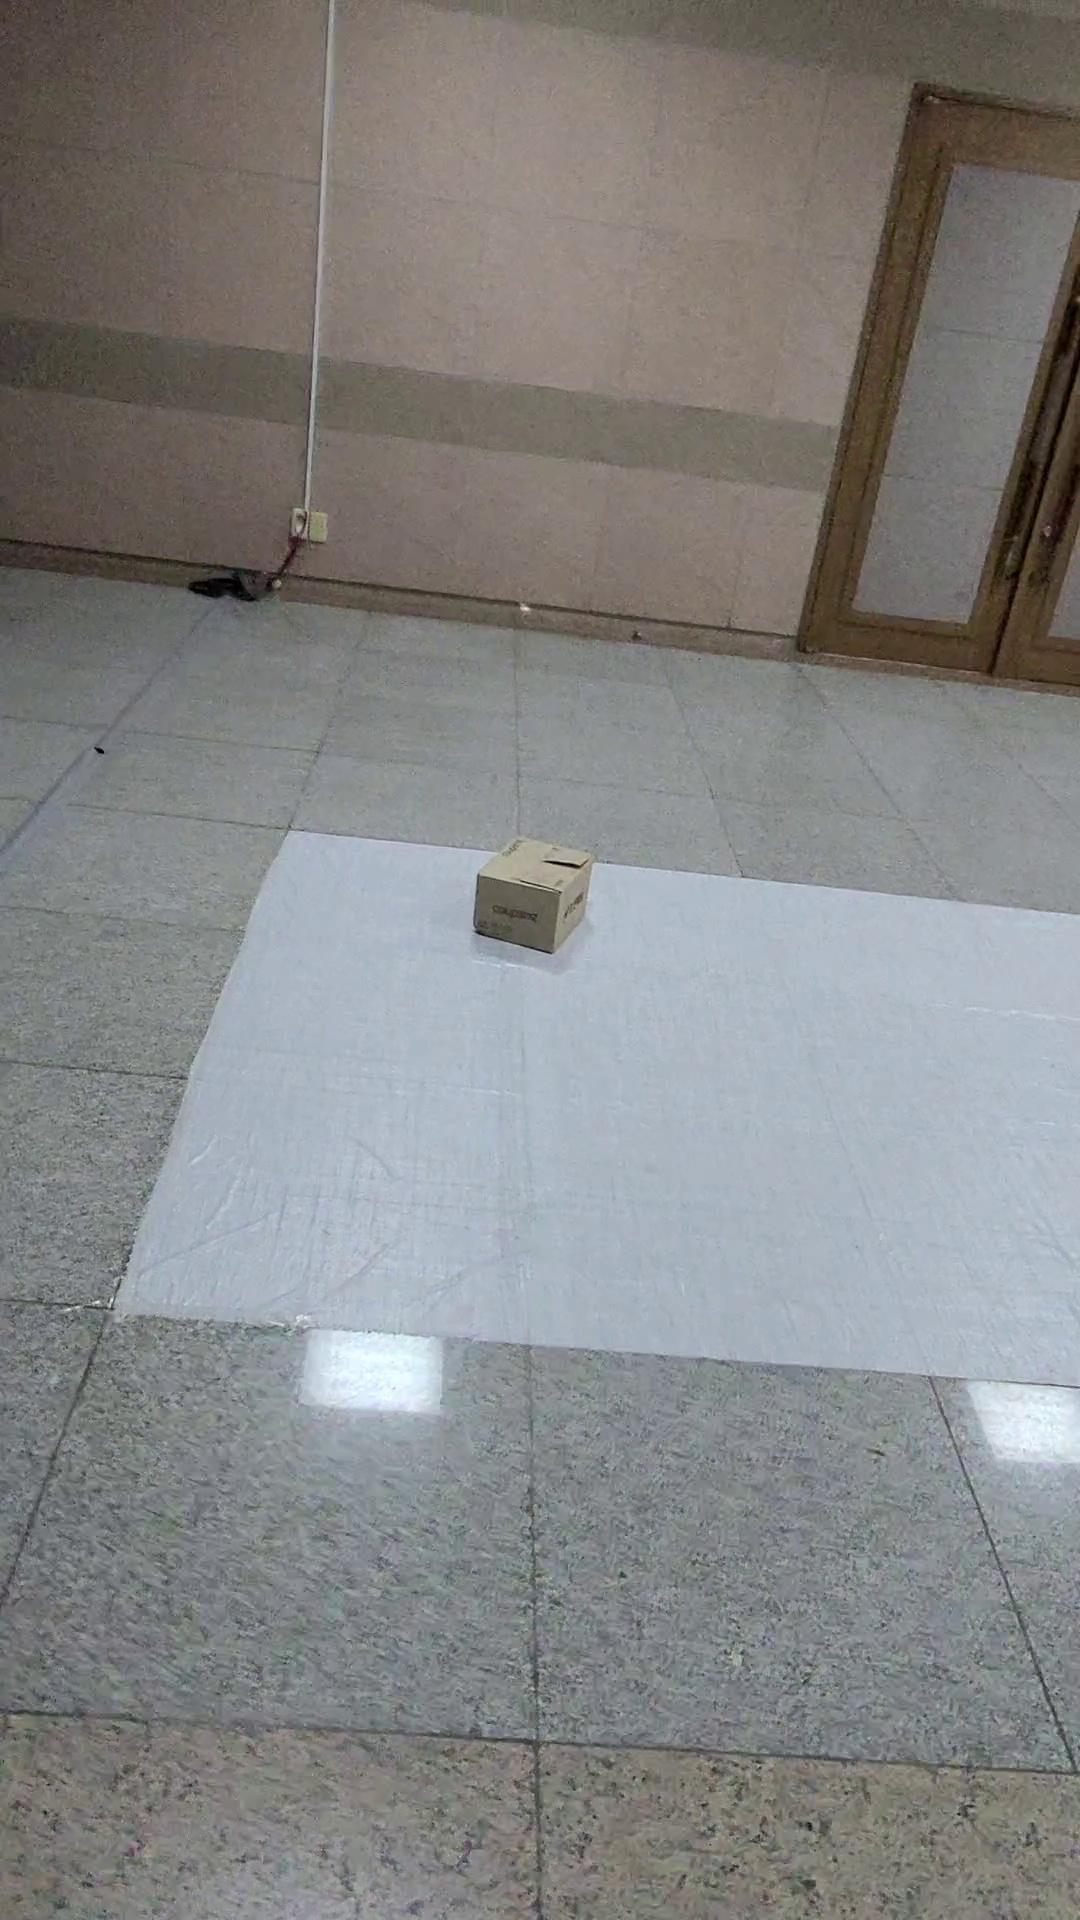Box: (451, 820, 611, 963)
